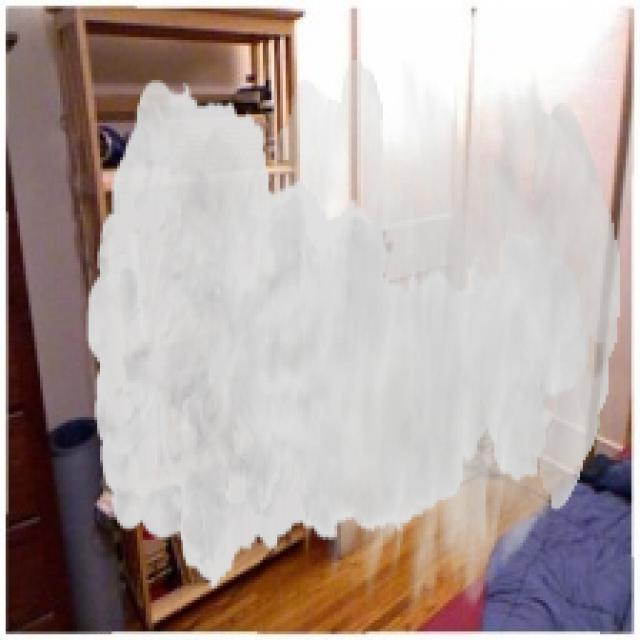Smoke: (85, 59, 620, 612)
